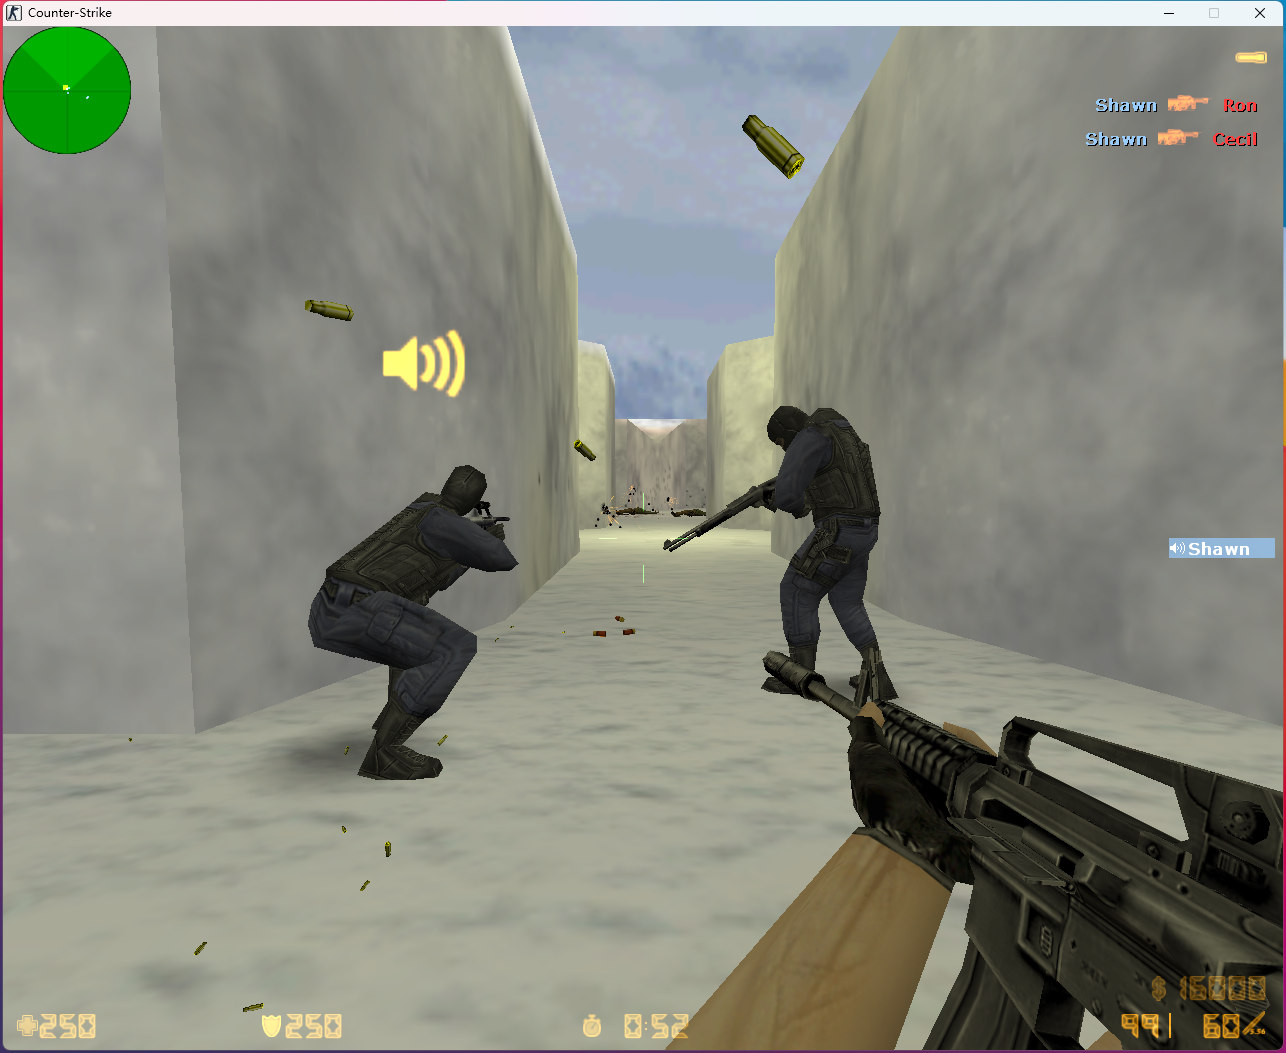C: (669, 405, 905, 709), (308, 461, 529, 786)
dead: (618, 503, 654, 517), (669, 508, 707, 520)
